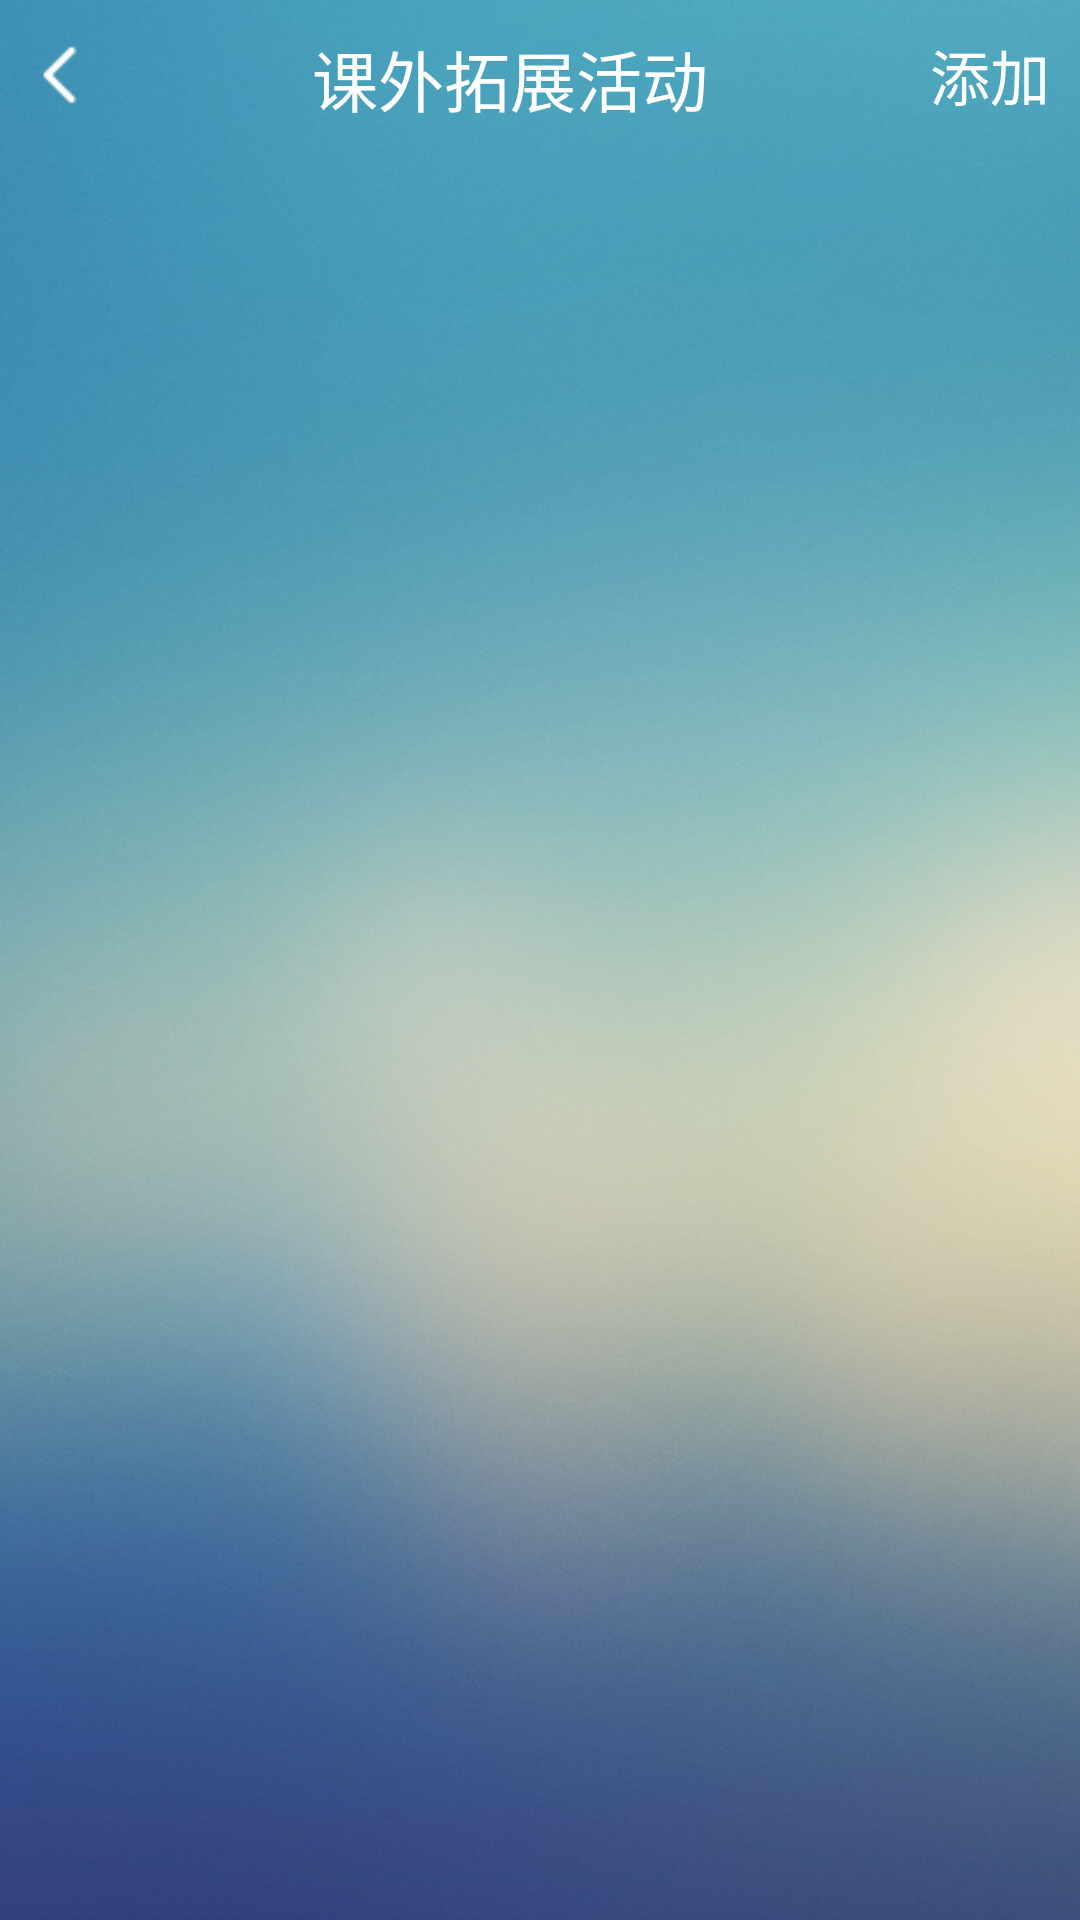

Icons on this 1080px×1920px Android screen, each with its box as (x1, y1, x2, y2):
back left: (43, 46, 77, 104)
